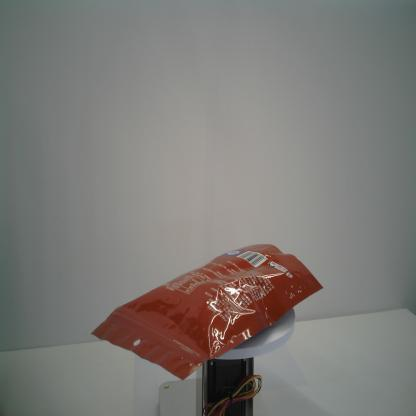Dried Food: (89, 242, 324, 383)
